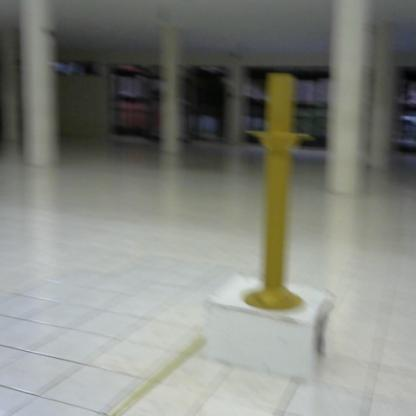pole: (237, 71, 319, 316)
